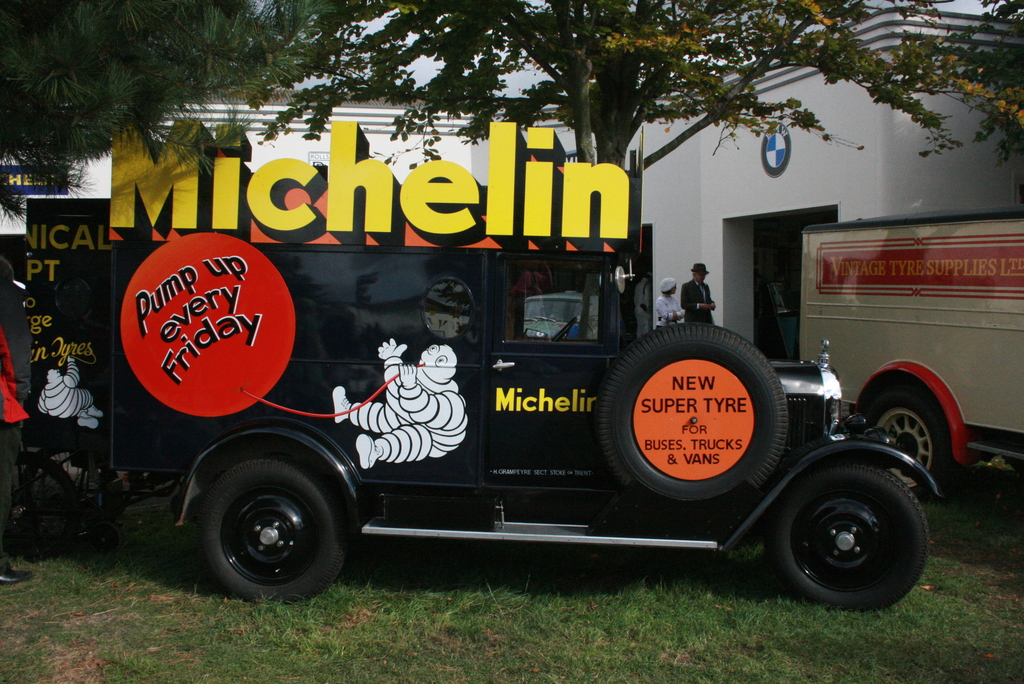Car: (51, 172, 908, 612)
